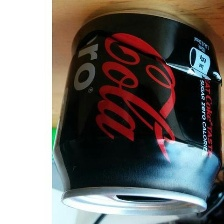can: (51, 8, 223, 218)
